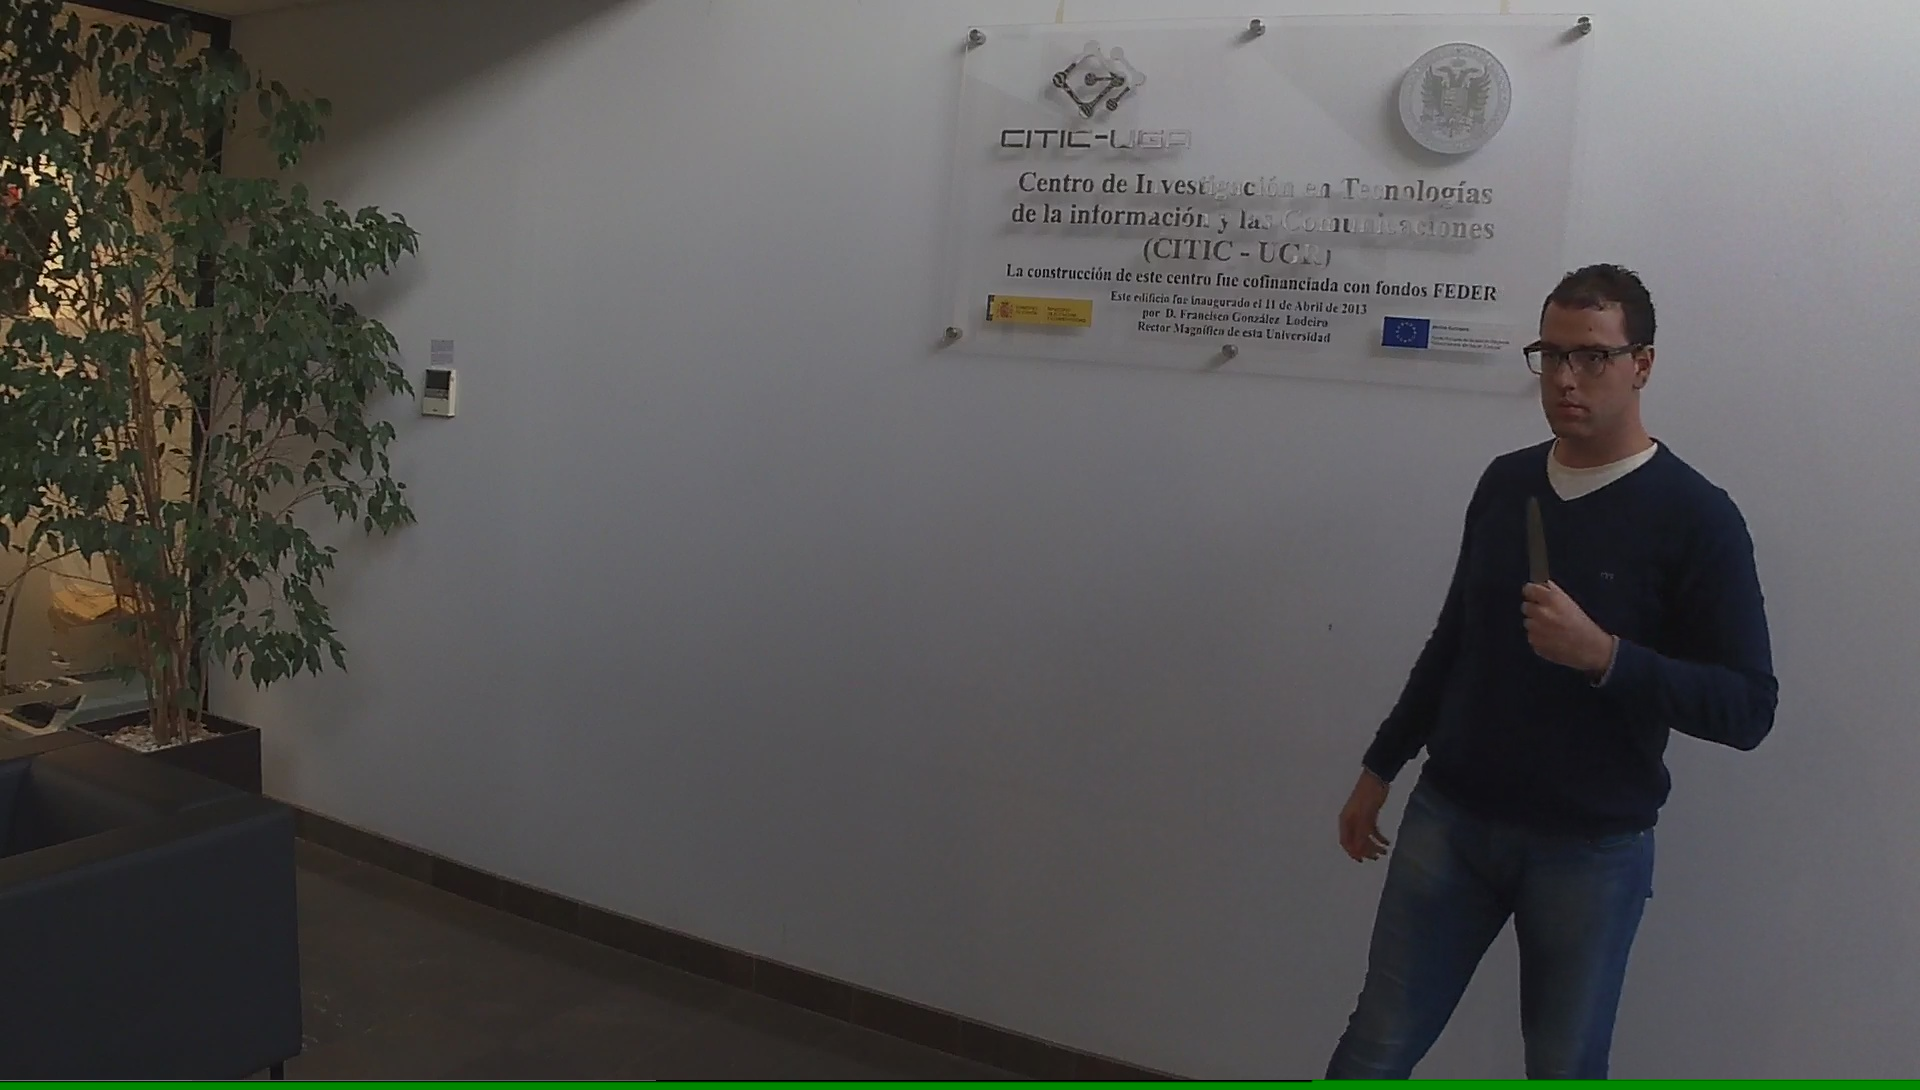knife: (1510, 485, 1568, 626)
